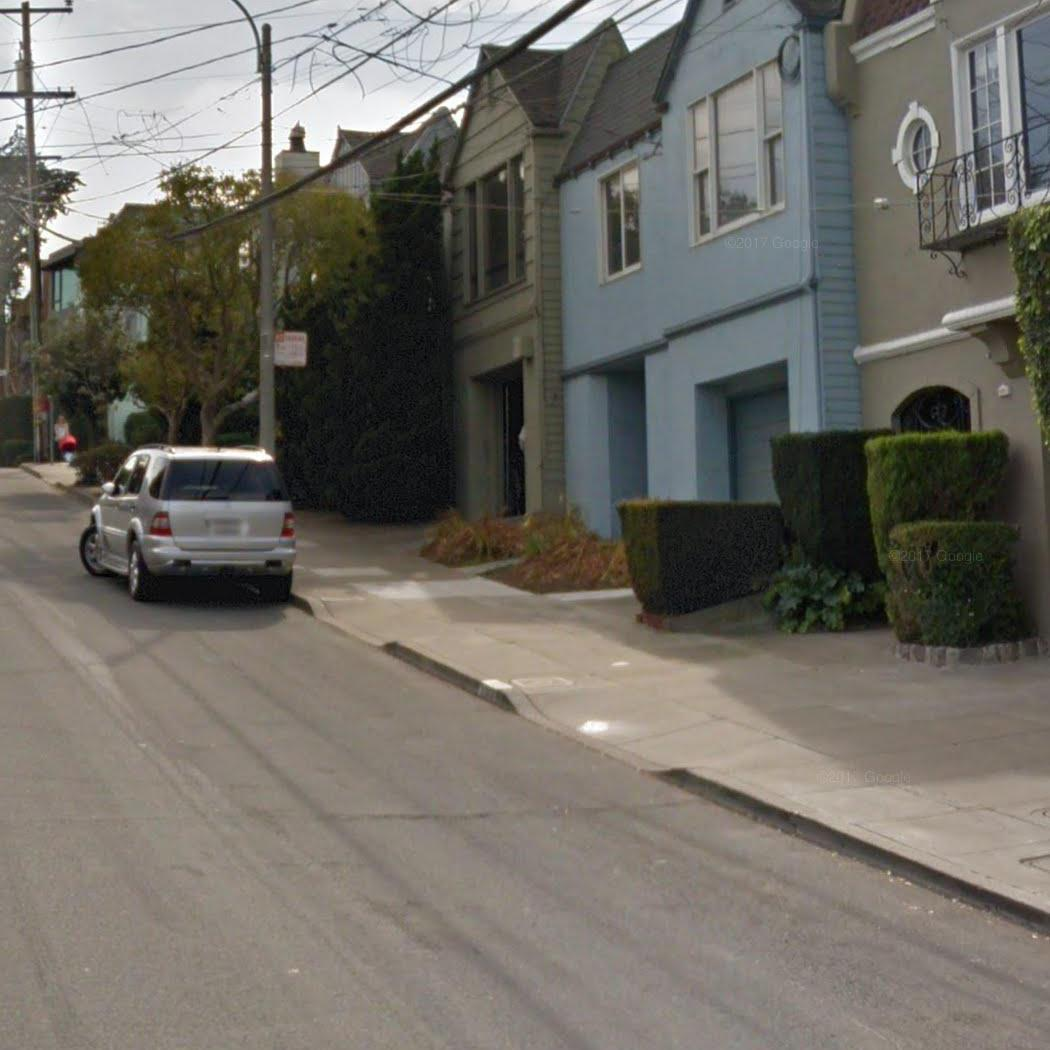No Parking: (271, 329, 311, 367)
